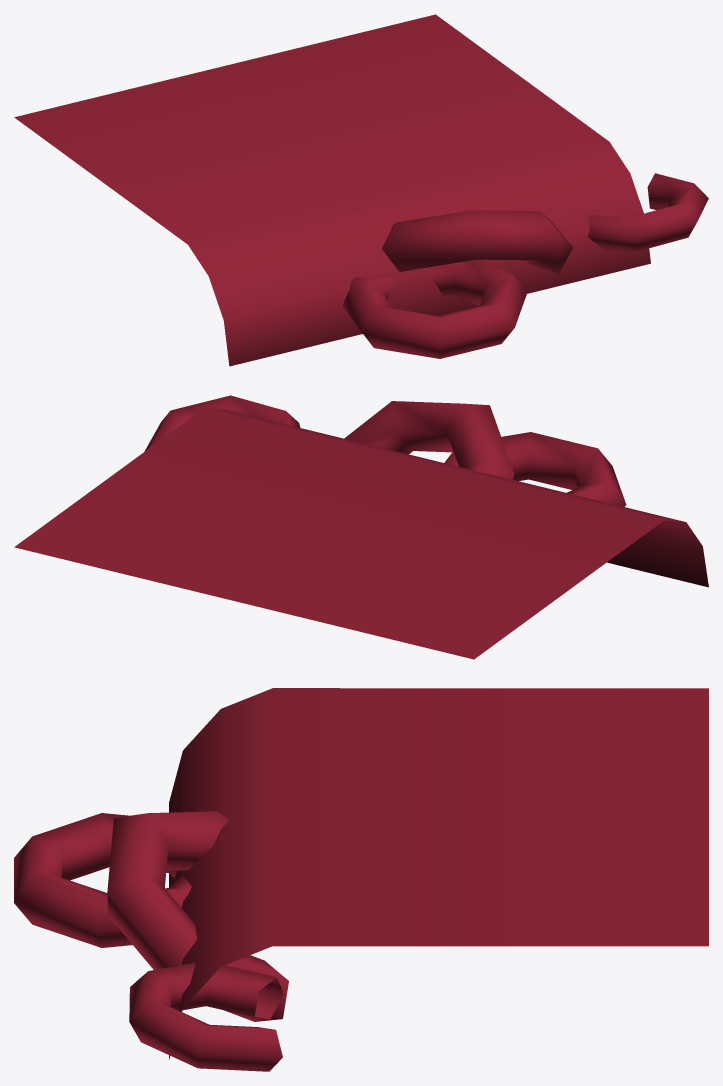
The model's file is Surface_PlatformShirt01.fbx.
3 renders of one model, top to bottom at view 1: azimuth 30°, elevation 25°; view 2: azimuth 150°, elevation 25°; view 3: azimuth 270°, elevation 25°, orthographic. The views are drawn at different scales.
Visible parts, largest first — view 1: Surface_PlatformShirt01; view 2: Surface_PlatformShirt01; view 3: Surface_PlatformShirt01.
Part boxes in pixels (x1,y1,x2,y2): Surface_PlatformShirt01: (14, 14, 708, 366); Surface_PlatformShirt01: (14, 395, 708, 659); Surface_PlatformShirt01: (14, 688, 708, 1071).
Bounding box in the file's own units: 2329 × 584 × 2276.
